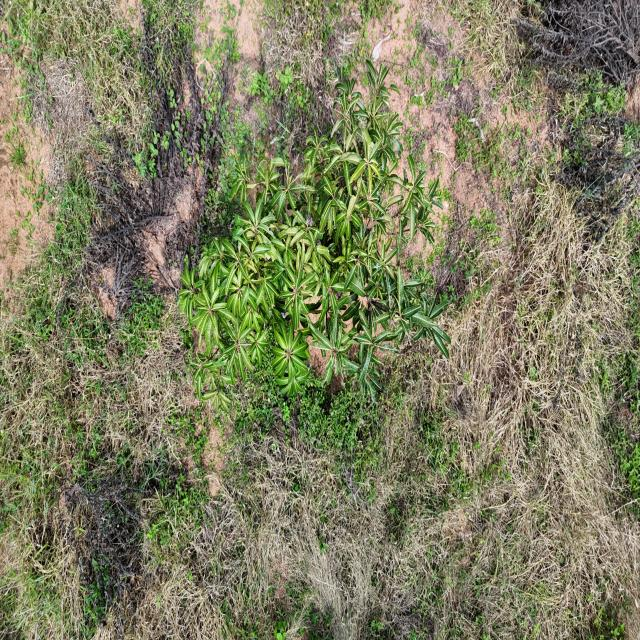mangoTree: (176, 53, 452, 398)
